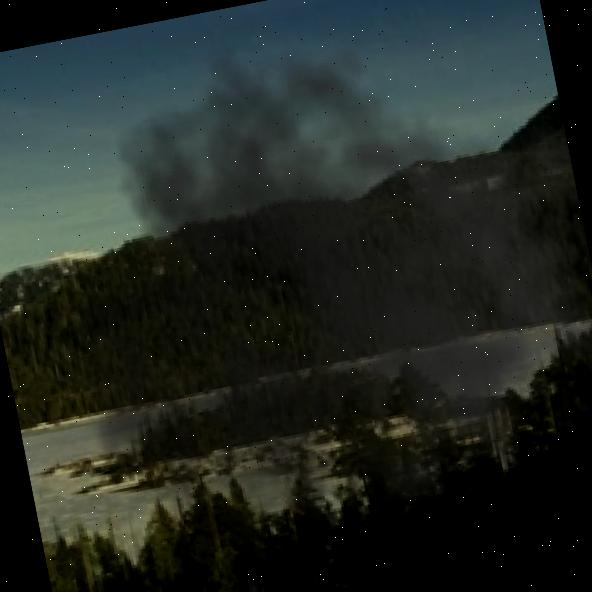smoke: (17, 0, 592, 592)
